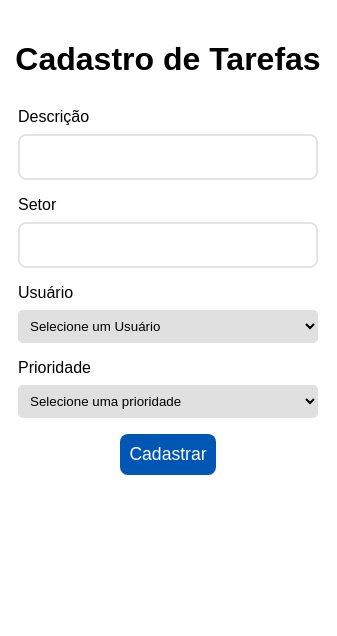
Scenario: Cadastro de Tarefas › deve exibir erro ao preencher a descrição com caracteres especiais
Type "Reunião@@@" into the field labelled "Descrição" at [168, 157], box [18, 134, 318, 180]
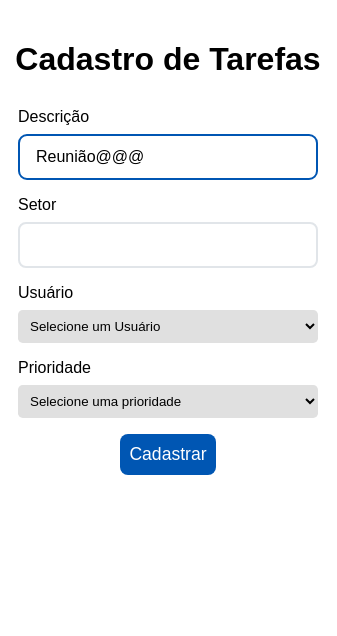
Click the button "Cadastrar" at [168, 454], box [120, 434, 216, 475]
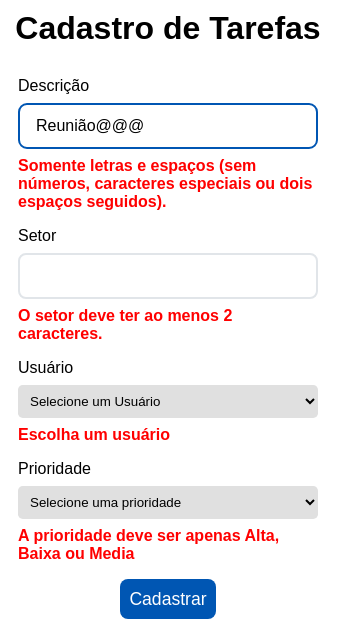
Result: the text "Somente letras e espaços" is shown at [18, 157, 312, 210]
